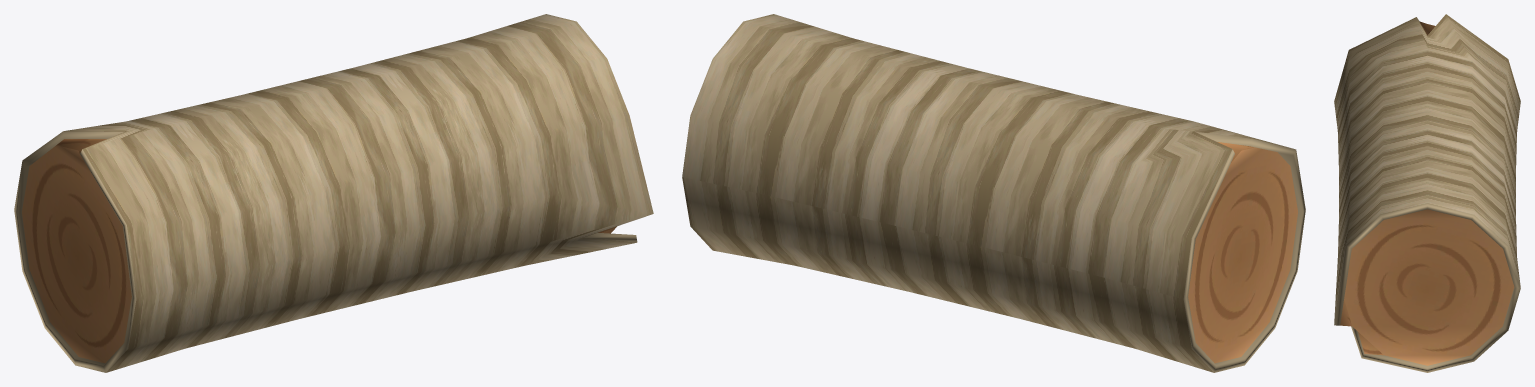
Rendered from PalmWoodStack.fbx.
3 renders of one model, left to right at view 1: azimuth 30°, elevation 25°; view 2: azimuth 150°, elevation 25°; view 3: azimuth 270°, elevation 25°, orthographic. The views are drawn at different scales.
Visible parts, largest first — view 1: WoodStack; view 2: WoodStack; view 3: WoodStack.
Boxes of the visible parts, bbox=[...] form: WoodStack: bbox=[14, 14, 653, 372]; WoodStack: bbox=[682, 14, 1305, 372]; WoodStack: bbox=[1334, 14, 1520, 372].
Bounding box in the file's own units: 1.45 × 0.5994 × 0.5894.
